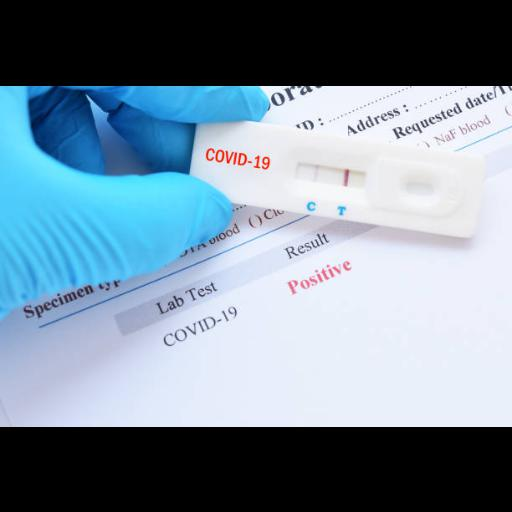Pos: (188, 116, 485, 241)
